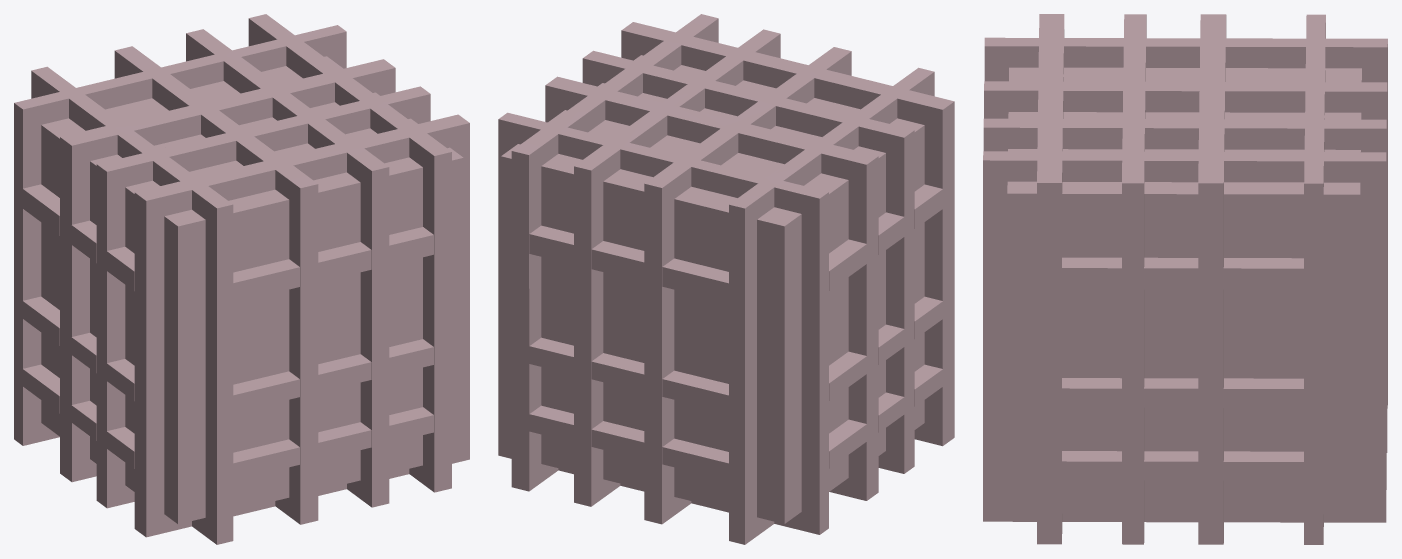
3 renders of one model, left to right at view 1: azimuth 30°, elevation 25°; view 2: azimuth 150°, elevation 25°; view 3: azimuth 270°, elevation 25°, orthographic. The views are drawn at different scales.
Visible parts, largest first — view 1: SM_Box; view 2: SM_Box; view 3: SM_Box.
Part boxes in pixels (x1,y1,x2,y2): SM_Box: (14,14,469,544); SM_Box: (498,14,954,544); SM_Box: (983,14,1387,544).
Bounding box in the file's own units: 152 × 151 × 153.
